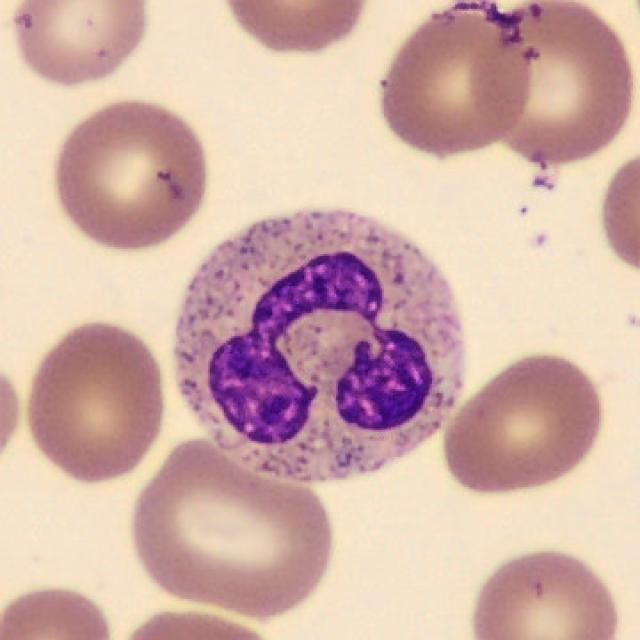Neutrofilo segmentado: (174, 210, 466, 484)
